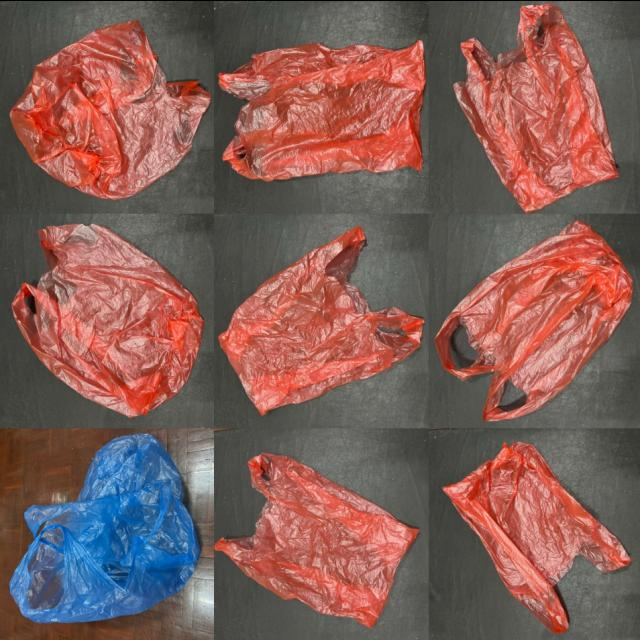plastik: (435, 221, 632, 419), (218, 226, 423, 414), (12, 223, 203, 416), (9, 433, 199, 622), (11, 19, 211, 198), (443, 442, 631, 632), (214, 452, 418, 626), (453, 3, 618, 212), (218, 39, 424, 180)
